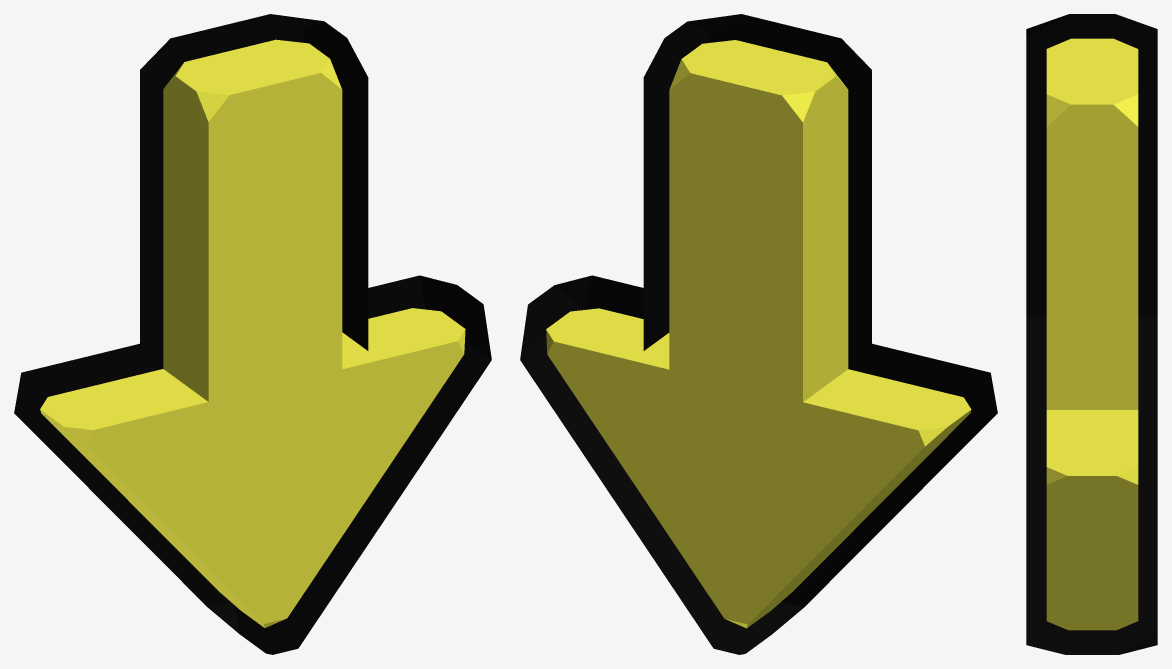
The model's file is arrow.gltf.
The picture shows the model from 3 angles, left to right: view 1: azimuth 30°, elevation 25°; view 2: azimuth 150°, elevation 25°; view 3: azimuth 270°, elevation 25°; orthographic projection.
Visible parts, largest first — view 1: Plane.020, Plane.021; view 2: Plane.020, Plane.021; view 3: Plane.020, Plane.021.
Boxes of the visible parts, bbox=[...] form: Plane.020: bbox=[40, 39, 465, 627]; Plane.021: bbox=[14, 14, 491, 654]; Plane.020: bbox=[546, 40, 971, 628]; Plane.021: bbox=[520, 14, 997, 654]; Plane.020: bbox=[1046, 38, 1138, 630]; Plane.021: bbox=[1026, 14, 1157, 654].
Size of the model in its own units: 1.12 by 1.45 by 0.2874.
Materials: 2 (1 with a texture image).
